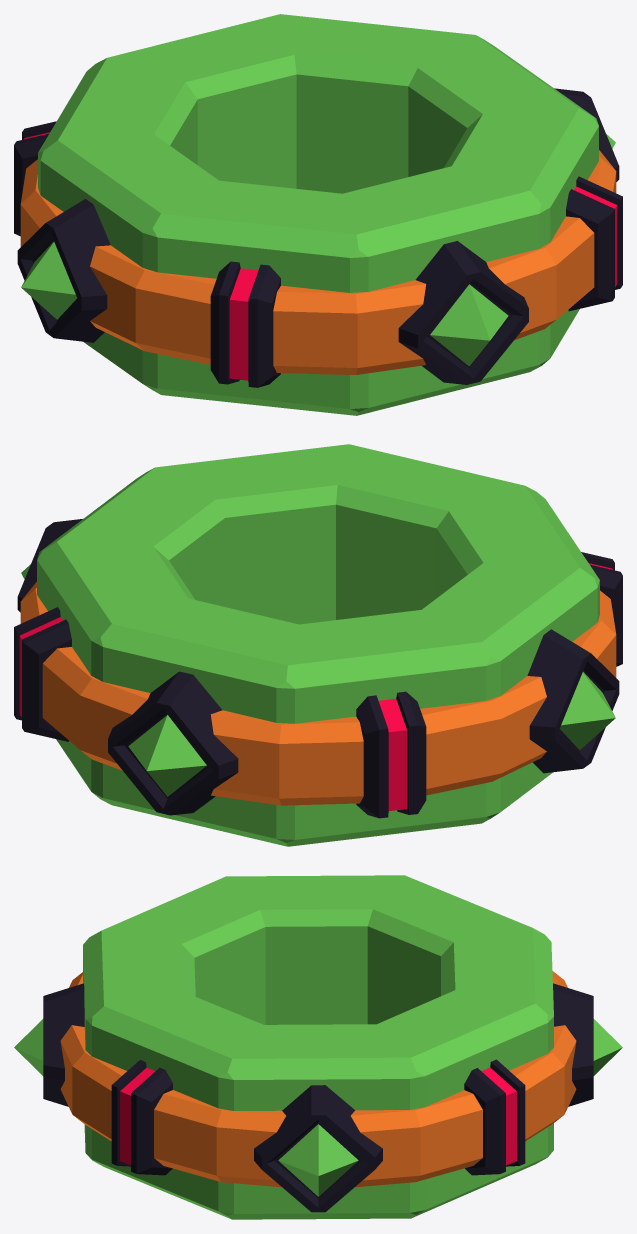
Rendered from Green.fbx.
3 views of the same model, one above another, from view 1: azimuth 30°, elevation 25°; view 2: azimuth 150°, elevation 25°; view 3: azimuth 270°, elevation 25° (orthographic). The views are drawn at different scales.
Parts seen in each view (by area): view 1: Rhombus; view 2: Rhombus; view 3: Rhombus.
Boxes of the visible parts, x1=… form: Rhombus: x1=14, y1=14, x2=622, y2=415; Rhombus: x1=14, y1=444, x2=622, y2=846; Rhombus: x1=14, y1=875, x2=622, y2=1219.
Bounding box in the file's own units: 1.63 × 1.63 × 0.4745.
1 material, 1 textured.
